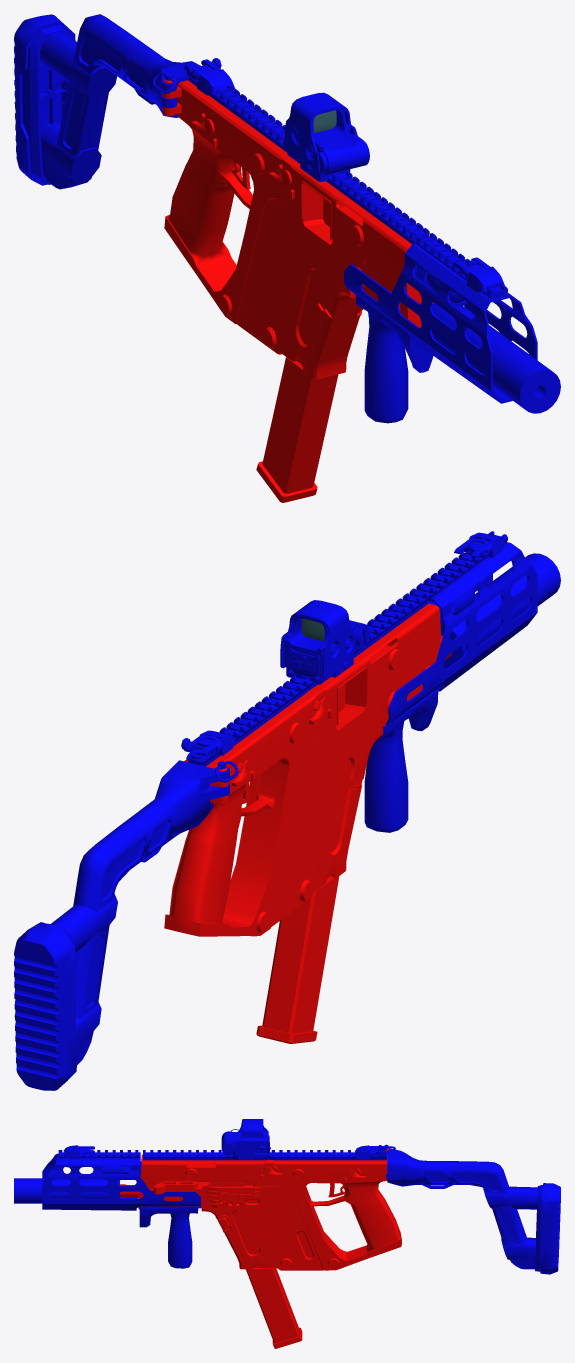
File: KrissVector.fbx
The picture shows the model from 3 angles, top to bottom: view 1: azimuth 30°, elevation 25°; view 2: azimuth 150°, elevation 25°; view 3: azimuth 270°, elevation 25°; orthographic projection. The views are drawn at different scales.
Parts seen in each view (by area): view 1: krissVector, BackAttach, FrontAttach; view 2: krissVector, BackAttach, FrontAttach; view 3: krissVector, BackAttach, FrontAttach.
Boxes of the visible parts, x1,y1,x2,y2 form: krissVector: [164, 58, 467, 502]; BackAttach: [14, 14, 199, 189]; FrontAttach: [344, 233, 560, 413]; krissVector: [164, 588, 474, 1043]; BackAttach: [14, 760, 238, 1090]; FrontAttach: [386, 531, 560, 725]; krissVector: [100, 1119, 401, 1348]; BackAttach: [384, 1144, 560, 1274]; FrontAttach: [14, 1145, 200, 1210].
Bounding box in the file's own units: 4.92 × 22.43 × 49.9.
